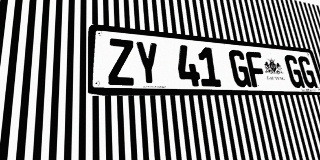1: (196, 46, 221, 87)
4: (175, 44, 201, 86)
F: (245, 51, 268, 87)
G: (228, 49, 252, 87), (283, 55, 305, 88), (297, 56, 318, 88)
Y: (134, 41, 161, 86)
Z: (107, 38, 136, 86)
